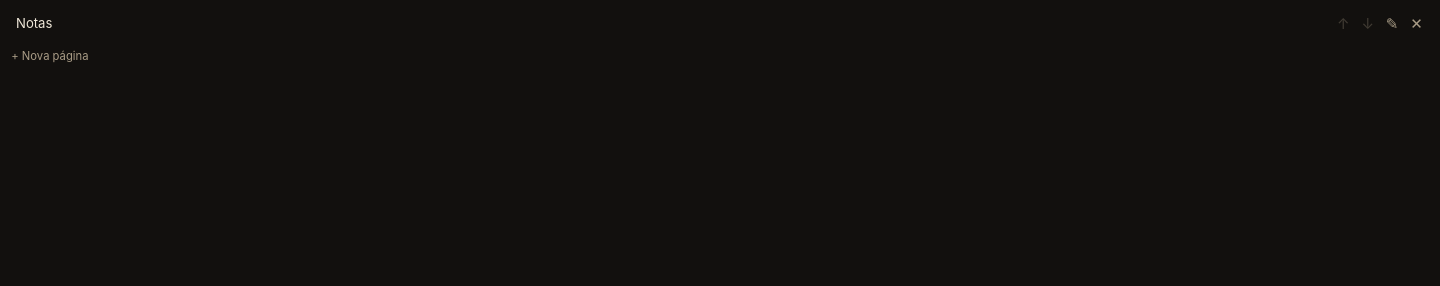
it: PainelDePaginas › erro ao salvar não apaga o que o usuário digitou — o texto continua na caixa
Step 1. Click the button "Notas" → coordinates (34, 23), box [12,12,1328,35]
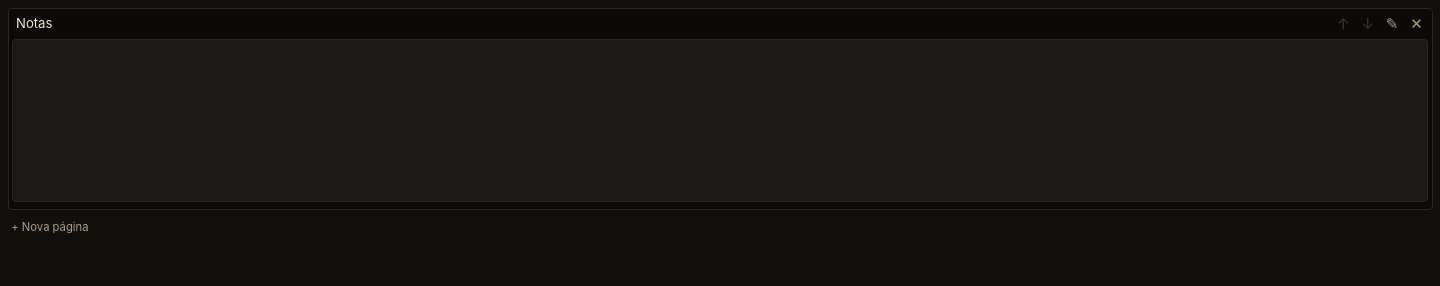
Step 2. Type "não pode sumir" into the text box named "Conteúdo de Notas" → coordinates (720, 120), box [12,38,1428,202]
Wait 1000 ms
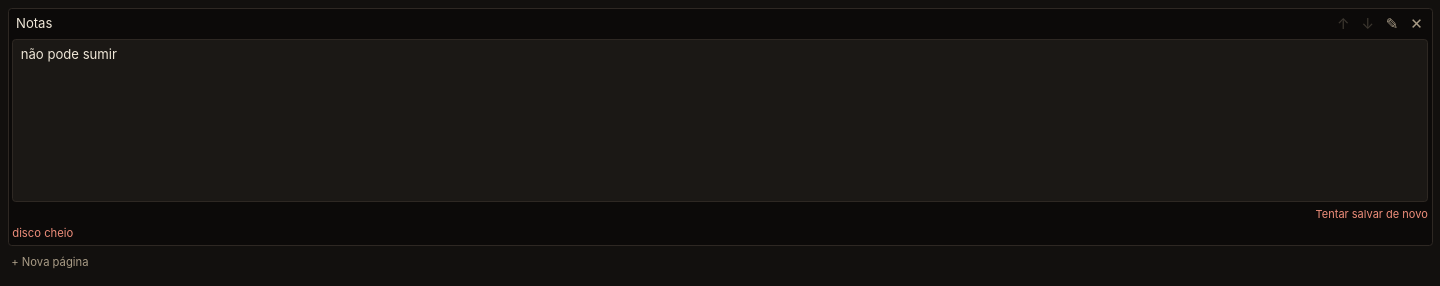
Expected: the message reads "disco cheio", [12,226,73,240]
